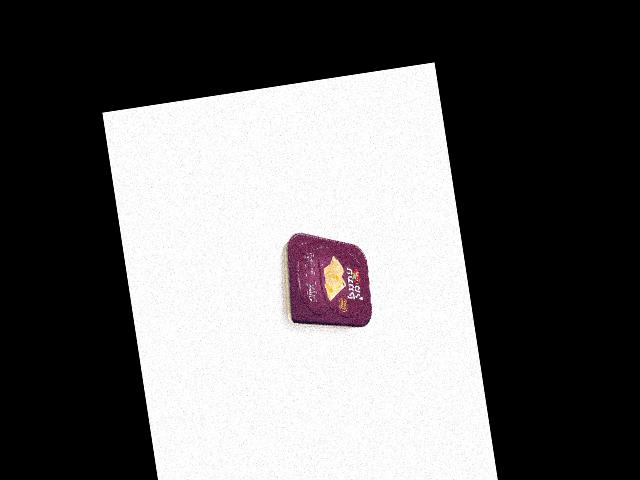cheese: (273, 223, 377, 338)
